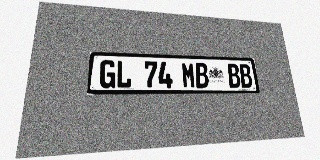4: (158, 62, 173, 88)
7: (143, 61, 158, 88)
B: (194, 63, 209, 88), (238, 64, 253, 88), (227, 64, 241, 88)
G: (99, 60, 116, 88)
L: (116, 60, 132, 88)
M: (181, 62, 196, 88)
